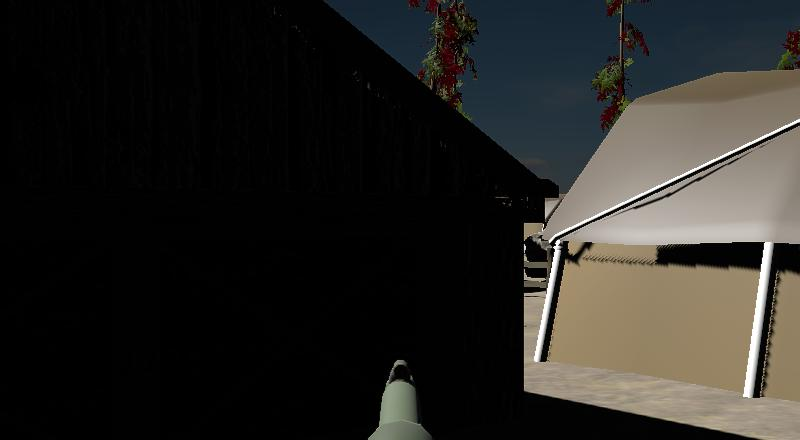House: (0, 0, 528, 440)
